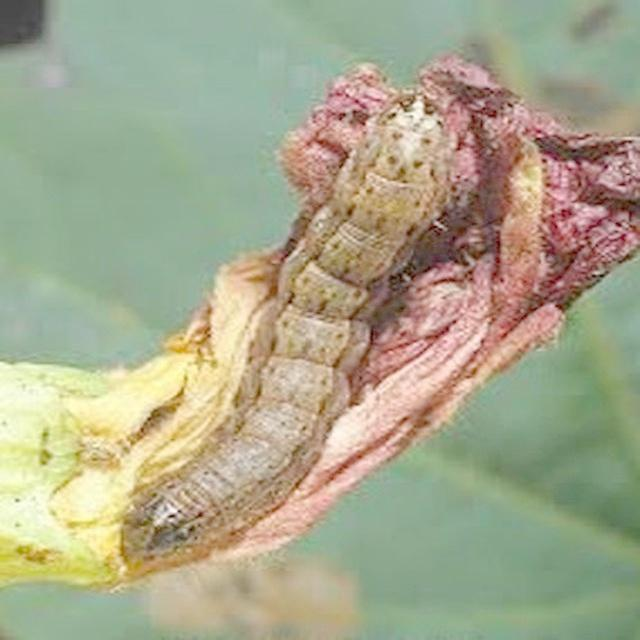gusano_cogollero: (114, 92, 450, 569)
